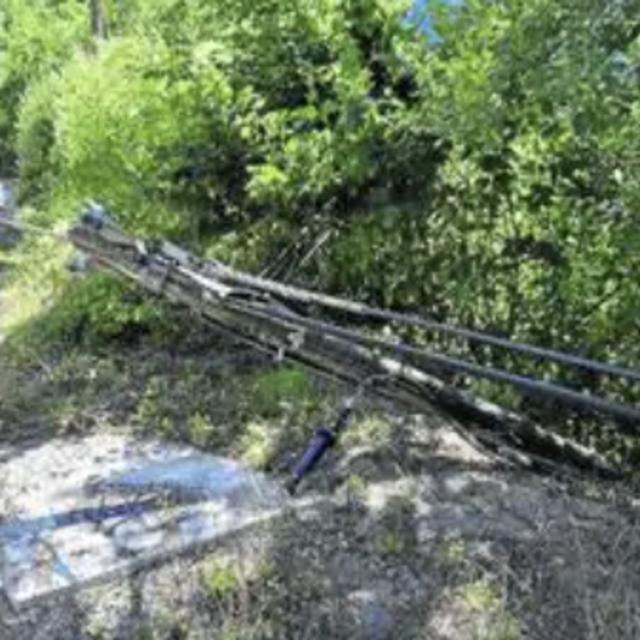Inclined Pole: (62, 196, 640, 495)
